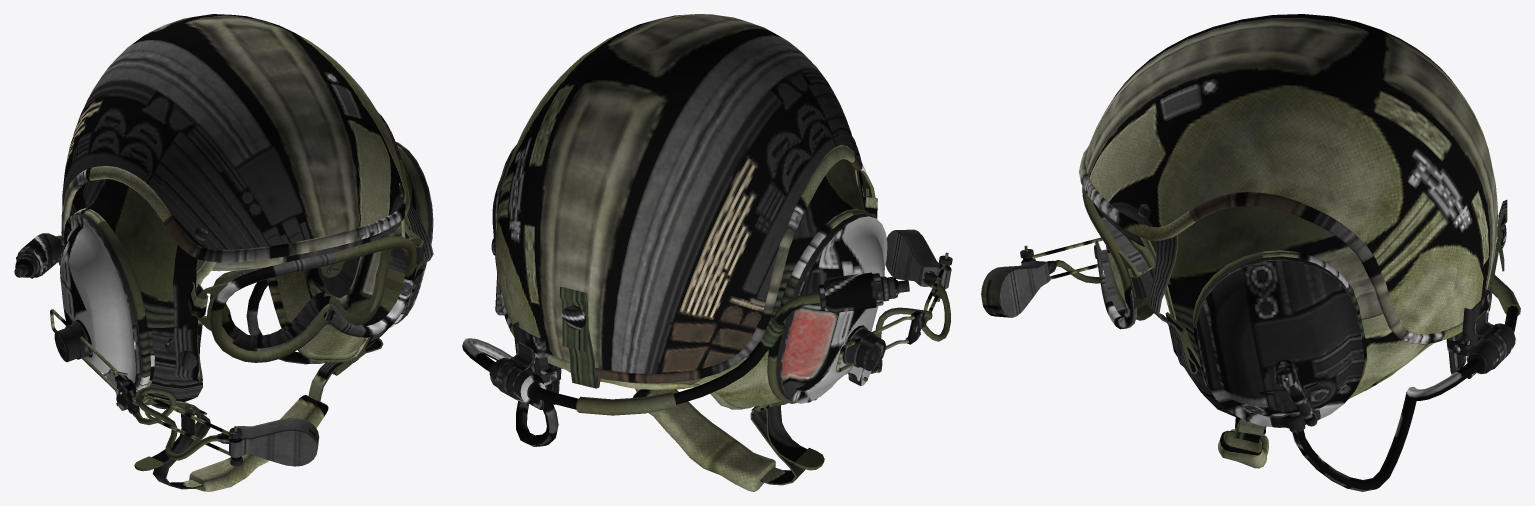
File: maozi_GAP.FBX
The picture shows the model from 3 angles, left to right: view 1: azimuth 30°, elevation 25°; view 2: azimuth 150°, elevation 25°; view 3: azimuth 270°, elevation 25°; orthographic projection. The views are drawn at different scales.
Parts seen in each view (by area): view 1: TK2; view 2: TK2; view 3: TK2.
Part boxes in pixels (bbox=[...]): TK2: bbox=[14, 14, 433, 491]; TK2: bbox=[462, 14, 952, 491]; TK2: bbox=[981, 14, 1520, 491].
Size of the model in its own units: 8.4 by 8.63 by 9.3.
1 material, 1 textured.
